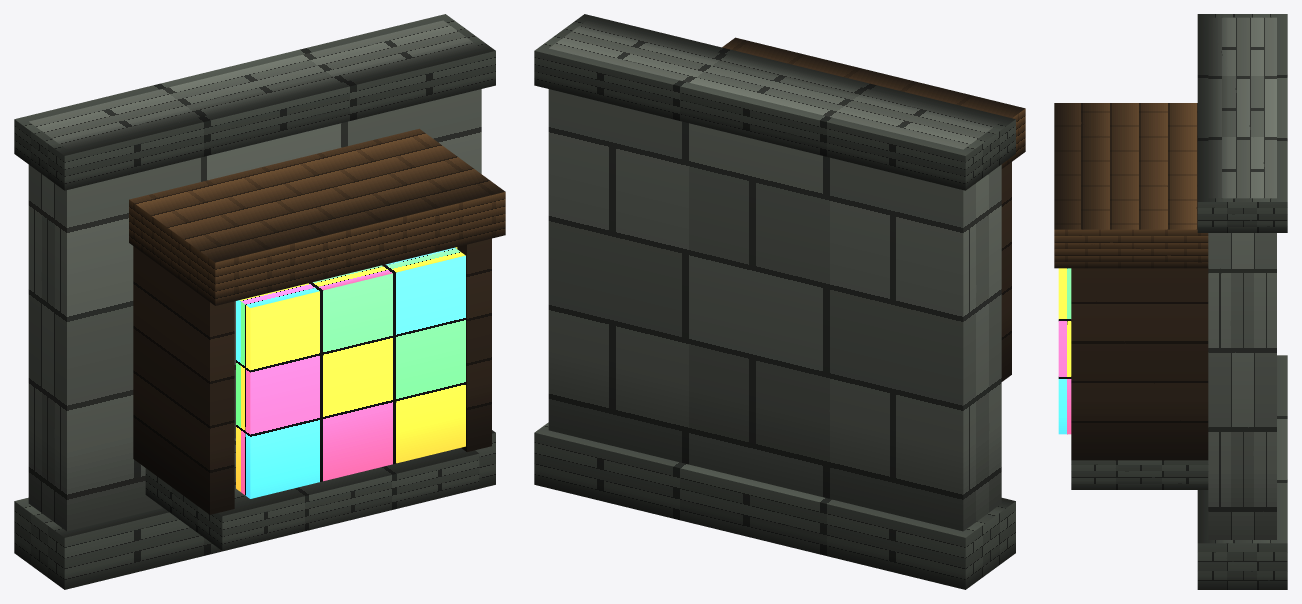
Rendered from bay_window.gltf.
3 views of the same model, side by side, from view 1: azimuth 30°, elevation 25°; view 2: azimuth 150°, elevation 25°; view 3: azimuth 270°, elevation 25° (orthographic). The views are drawn at different scales.
Visible parts, largest first — view 1: bay_window; view 2: bay_window; view 3: bay_window.
Part boxes in pixels (left/top/right/bottom): bay_window: left=14, top=14, right=505, bottom=589; bay_window: left=534, top=14, right=1025, bottom=589; bay_window: left=1054, top=14, right=1287, bottom=589.
Bounding box in the file's own units: 1.04 × 1 × 0.545.
Materials: 1 (1 with a texture image).
